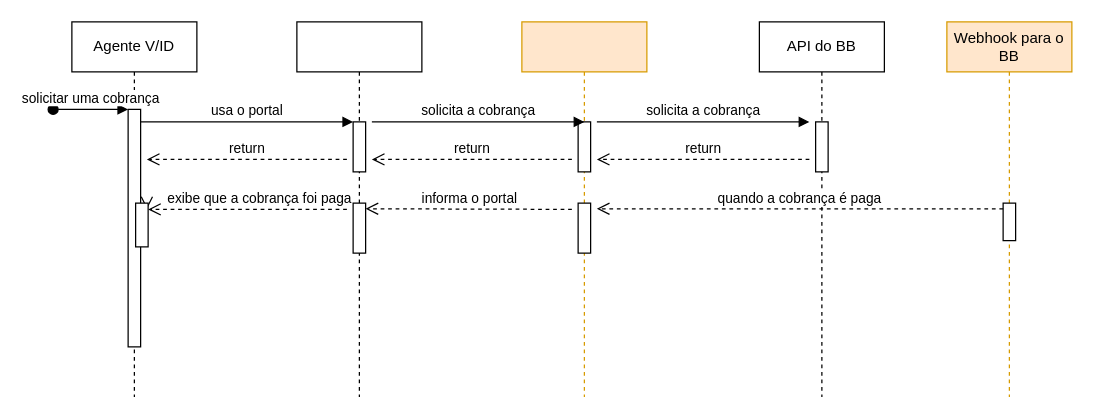
This 1094x419 diagram has some shape labels left out. The box of each missing label's shape, as (x1, y1, x2, y2) in pixels:
Emissor: (521, 21, 647, 397)
Portal: (296, 21, 422, 397)
